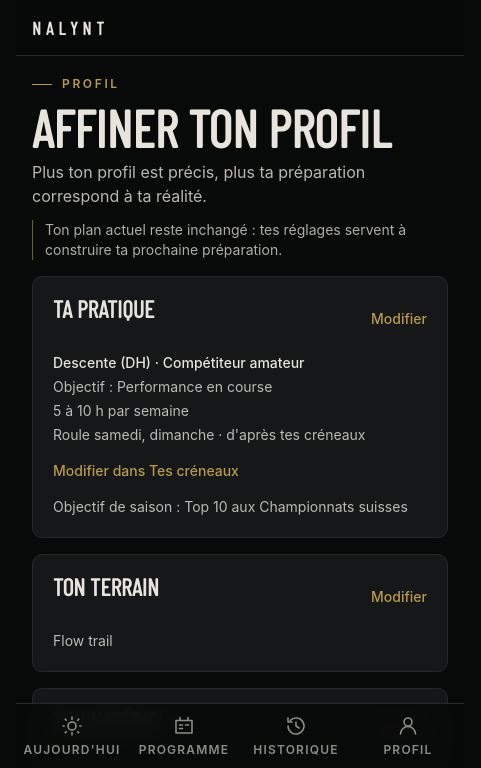
Test case: Affiner ton profil — riding days come from the slots only › editing « Ta pratique »: no riding-day chips, the slots' days read-only, saving never writes preferred_riding_days
Click the button with aria-label "Modifier ta pratique" at (399, 319), box [371,297,427,341]
(page scrolled)
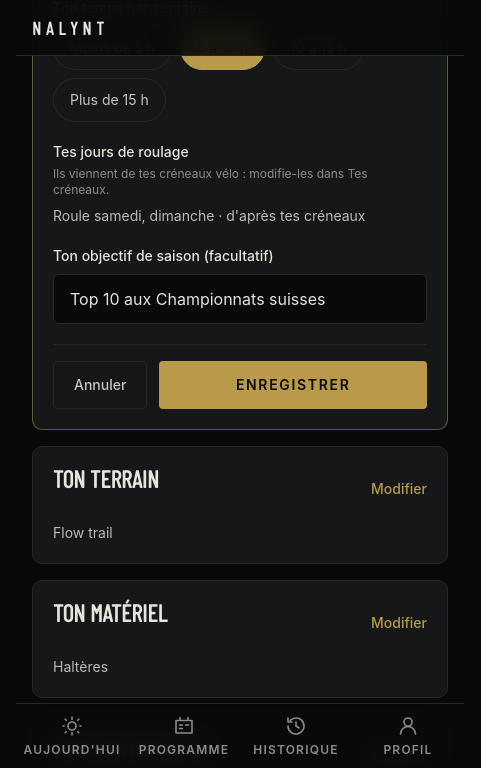
Expected: the text "Roule samedi, dimanche · d'après tes créneaux" is shown, [53,207,366,224]
Now the text "Ils viennent de tes créneaux vélo : modifie-les dans Tes créneaux." is shown, box [53,166,368,197]
Click the button "Enregistrer" at (293, 385), box [159,361,427,409]
(page scrolled)
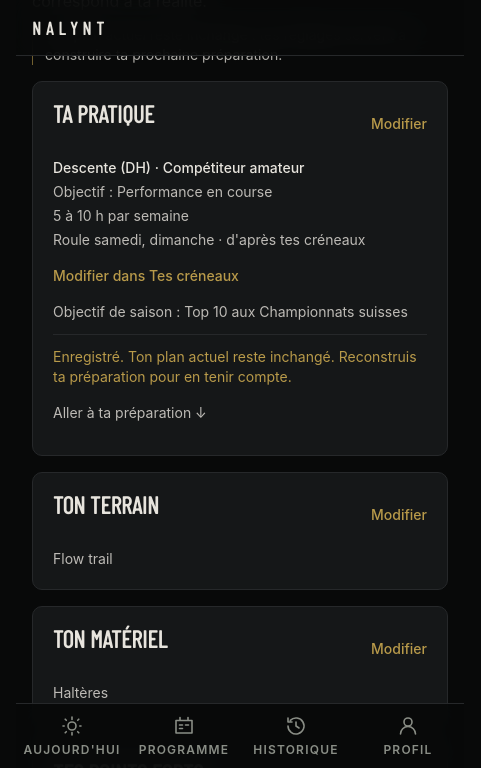
Now the message is shown, box [53,334,427,435]
